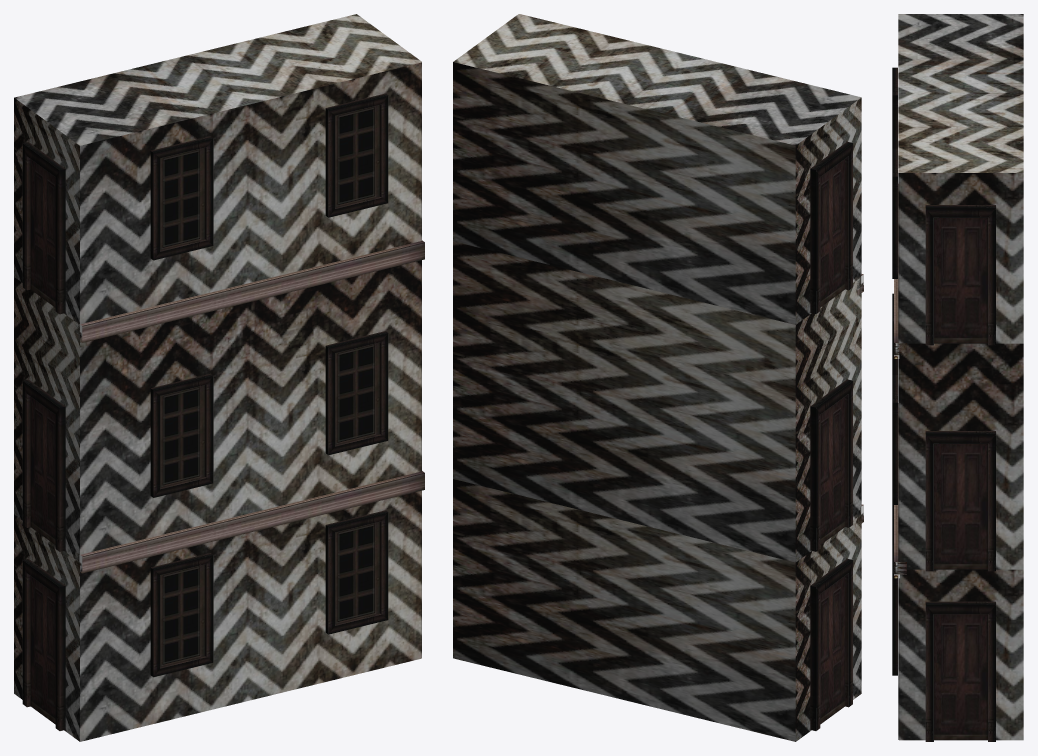
File: Slap_SH_Wall_04.fbx
3 renders of one model, left to right at view 1: azimuth 30°, elevation 25°; view 2: azimuth 150°, elevation 25°; view 3: azimuth 270°, elevation 25°, orthographic. The views are drawn at different scales.
Parts seen in each view (by area): view 1: Slap_SH_Wall_04; view 2: Slap_SH_Wall_04; view 3: Slap_SH_Wall_04.
Part boxes in pixels (bbox=[...]): Slap_SH_Wall_04: bbox=[14, 14, 424, 741]; Slap_SH_Wall_04: bbox=[453, 14, 863, 741]; Slap_SH_Wall_04: bbox=[892, 14, 1023, 741].
Bounding box in the file's own units: 3.11 × 4.99 × 1.05.
1 material, 1 textured.
